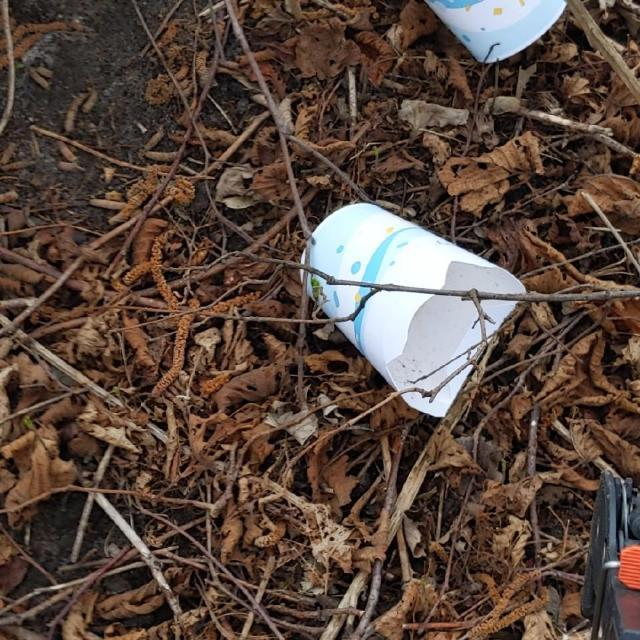Paper: (296, 201, 528, 421), (422, 0, 570, 65)
